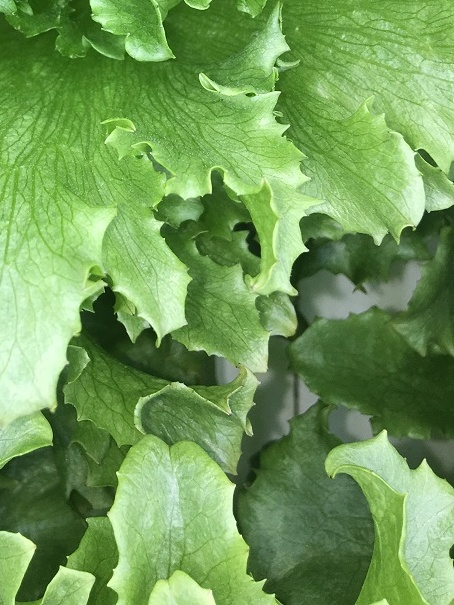tipburn: (216, 400, 237, 422), (245, 280, 261, 296), (231, 359, 248, 371), (258, 173, 272, 187)
